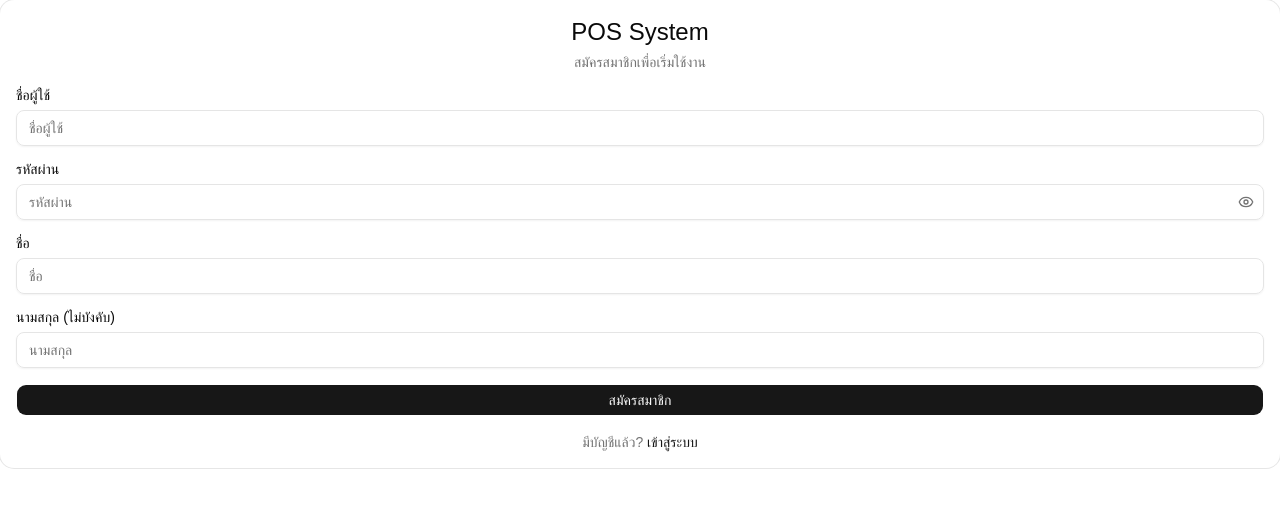
Test case: RegisterPage › shows validation error for short username
Type "ab" into the field labelled "ชื่อผู้ใช้" at x=640, y=128, box [16,110,1264,146]
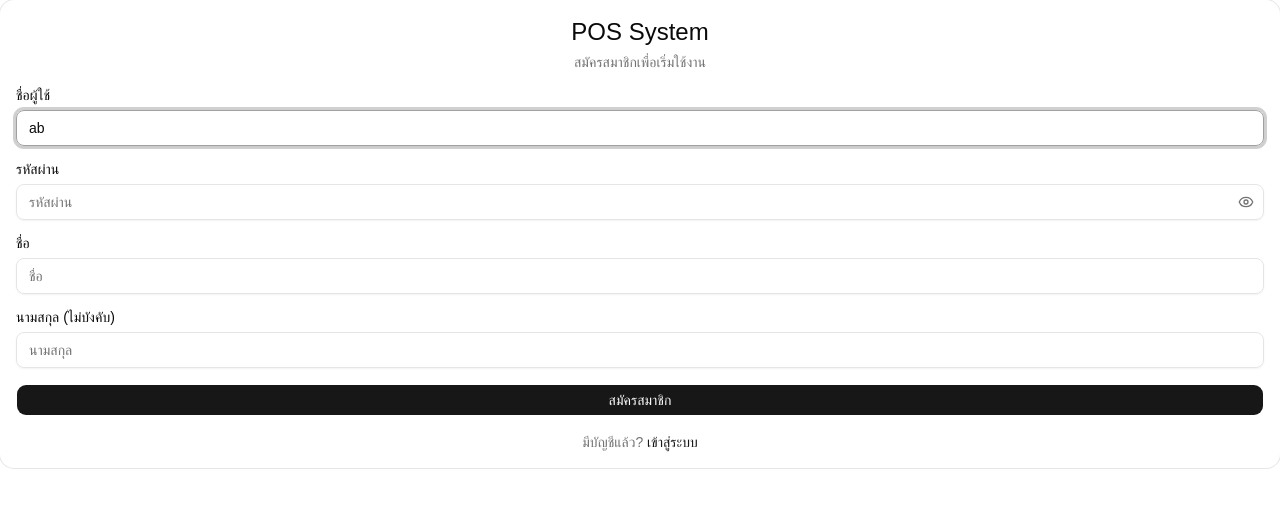
Type "12345678" into the password field labelled "รหัสผ่าน" at x=640, y=202, box [16,184,1264,220]
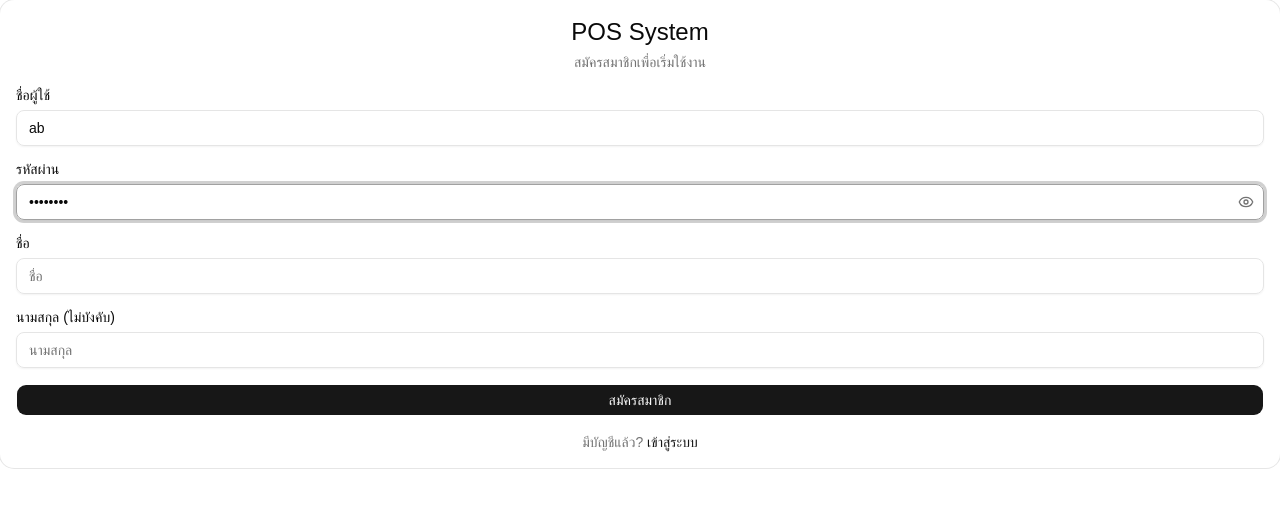
Type "Test" into the field labelled "ชื่อ" at x=640, y=276, box [16,258,1264,294]
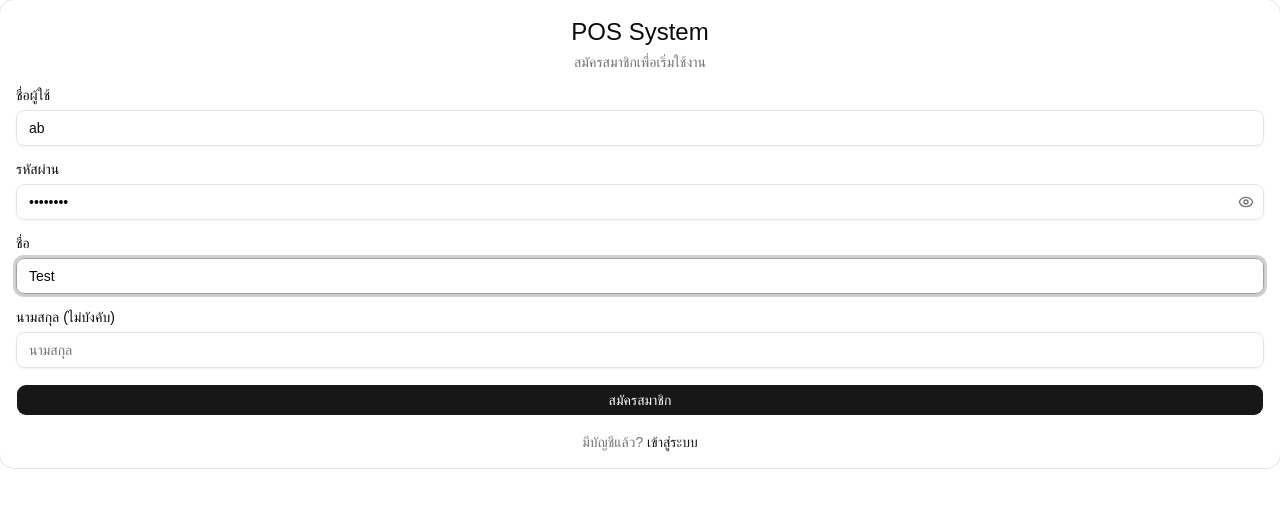
Click the button "สมัครสมาชิก" at x=640, y=400, box [16,384,1264,416]
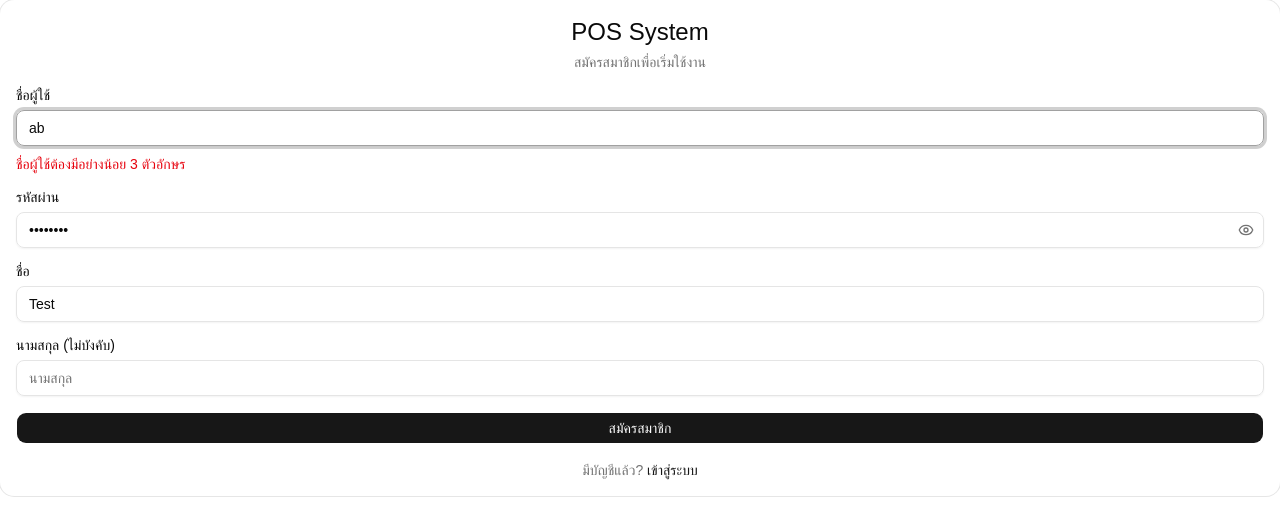
expect the text "ชื่อผู้ใช้ต้องมีอย่างน้อย 3 ตัวอักษร" is shown: met, box [16,156,186,172]
